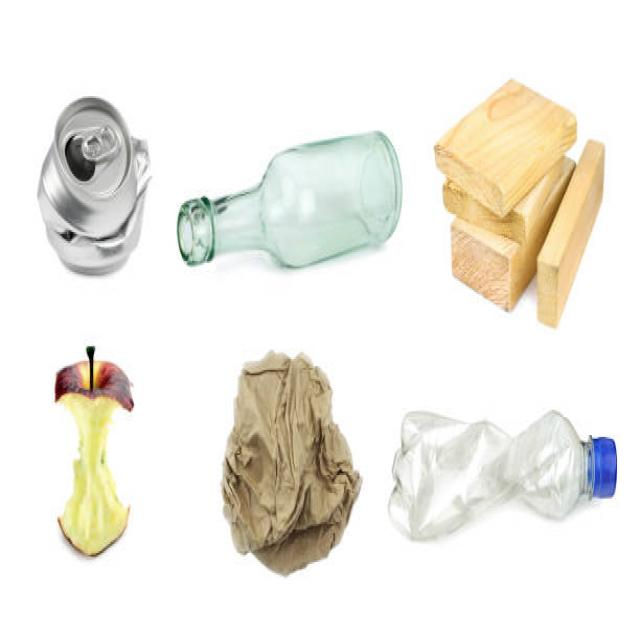glass: (181, 132, 400, 274)
metal: (39, 99, 150, 277)
paper: (233, 356, 355, 566)
plastic: (391, 409, 616, 530)
